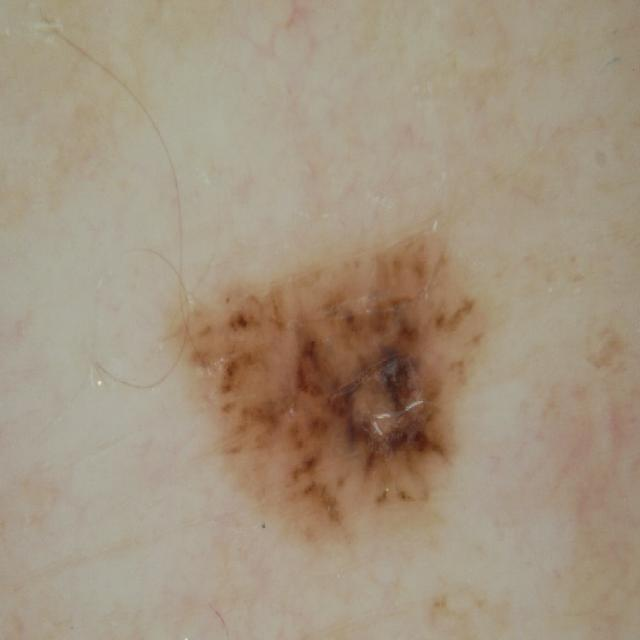Melanoma: (175, 244, 528, 567)
